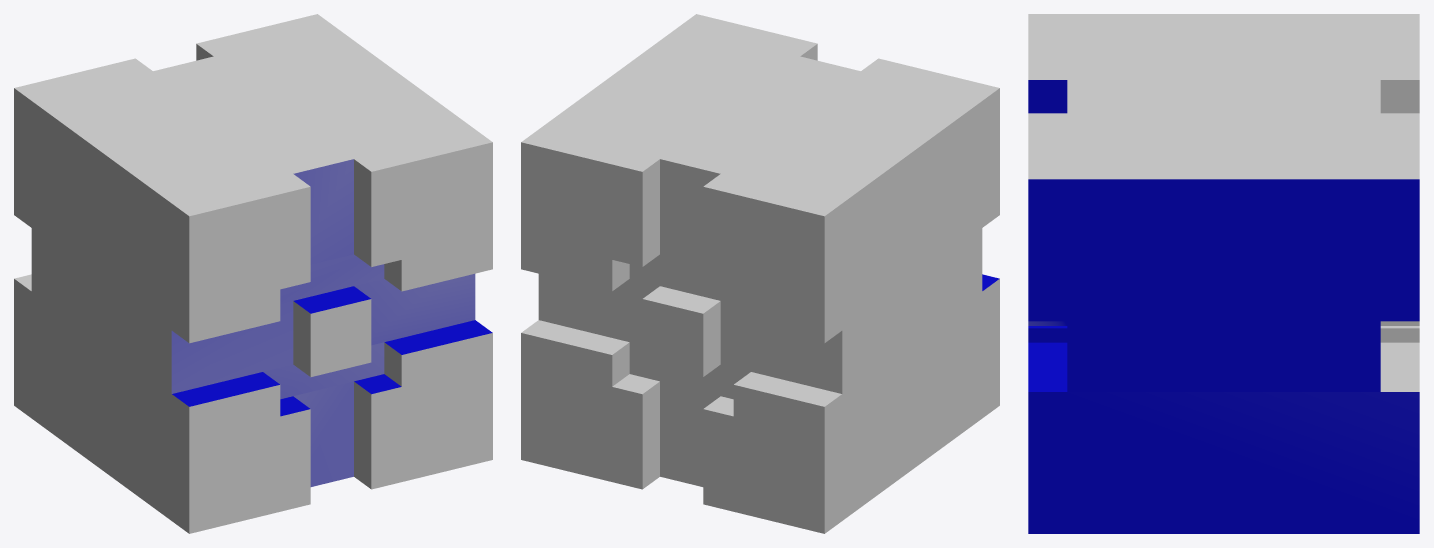
Rendered from Tile_Puzzle_3.fbx.
3 views of the same model, side by side, from view 1: azimuth 30°, elevation 25°; view 2: azimuth 150°, elevation 25°; view 3: azimuth 270°, elevation 25° (orthographic). The views are drawn at different scales.
Parts seen in each view (by area): view 1: Tile_Puzzle_3; view 2: Tile_Puzzle_3; view 3: Tile_Puzzle_3.
Part boxes in pixels (bbox=[...]): Tile_Puzzle_3: bbox=[14, 14, 492, 533]; Tile_Puzzle_3: bbox=[521, 14, 999, 533]; Tile_Puzzle_3: bbox=[1028, 14, 1419, 533].
Bounding box in the file's own units: 200 × 200 × 200.
